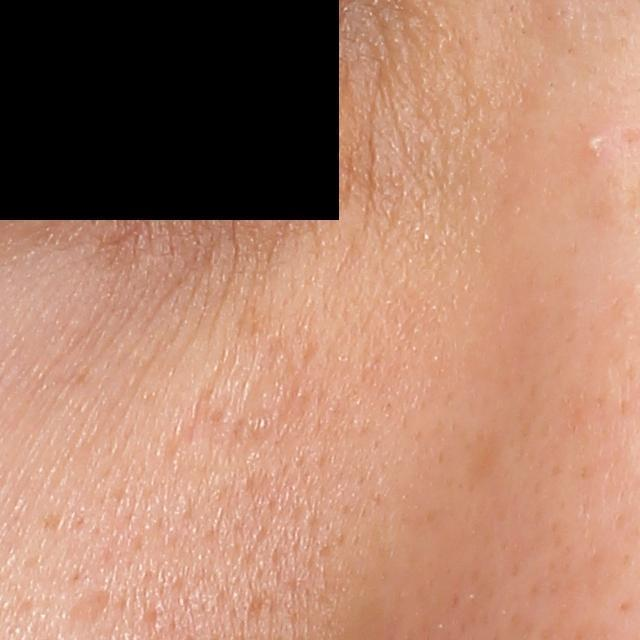atrophic_scar: (65, 587, 117, 632)
